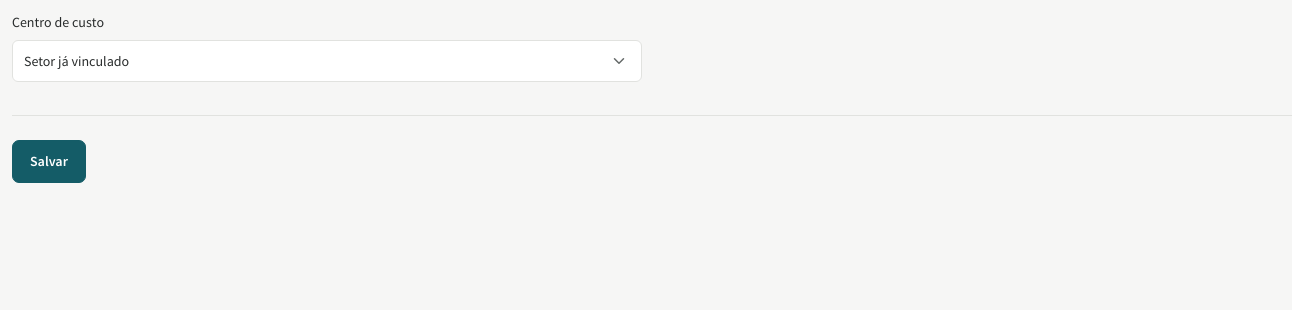
Test: Formulários estruturados › oferece centros de custo ativos e preserva a seleção antiga
This screenshot has width=1292, height=310.
Check: the dropdown labelled "Centro de custo" holds "Setor já vinculado", box [12,40,642,82]
Click the button named "Mostrar opções de Centro de custo". click: [619, 61]
box: [597,41,641,81]
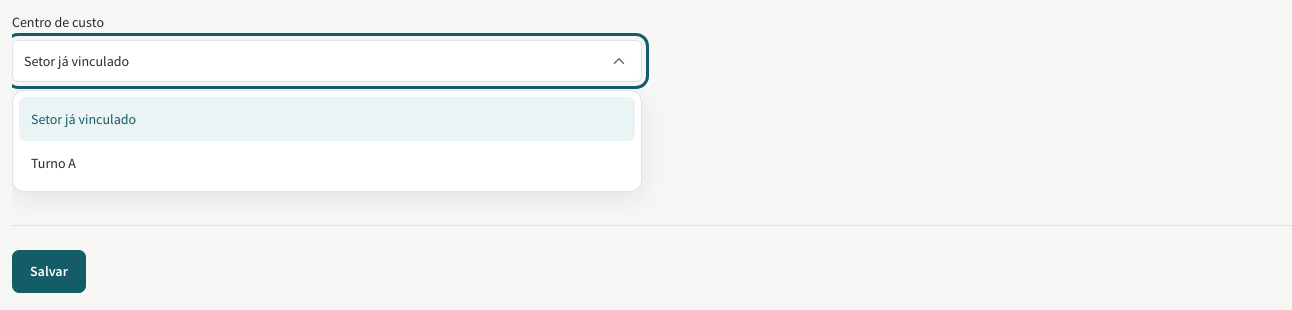
Check: the option "Turno A" is shown, box [19,141,635,185]
Check: the option "Setor já vinculado" is shown, box [19,97,635,141]
